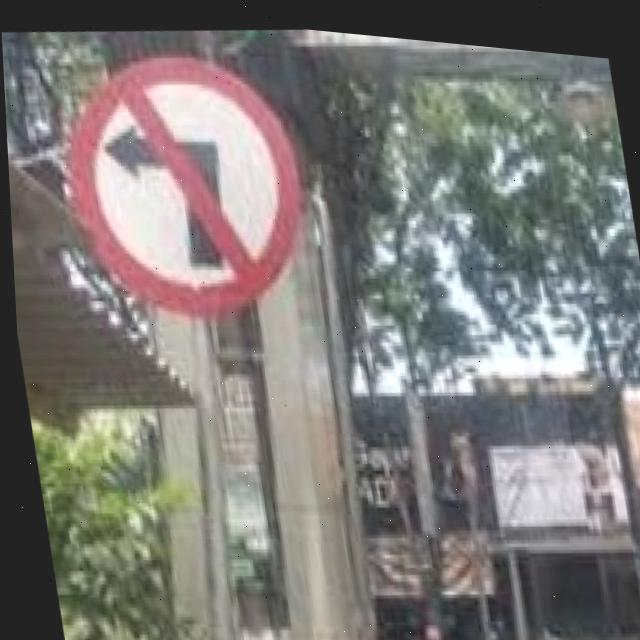Dilarang Belok Kiri: (56, 37, 318, 330)
